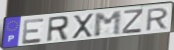E: (21, 17, 46, 45)
M: (94, 10, 123, 38)
R: (45, 15, 70, 44), (144, 7, 170, 33)
X: (72, 13, 95, 41)
Z: (121, 8, 145, 35)
